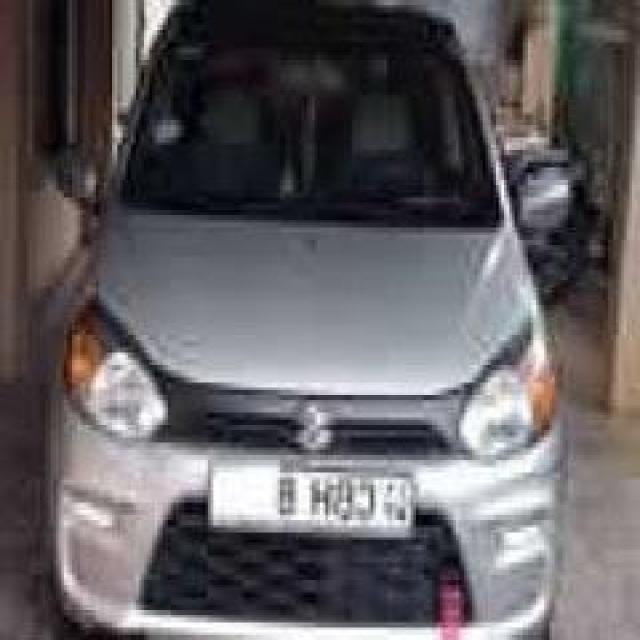car: (26, 1, 610, 634)
